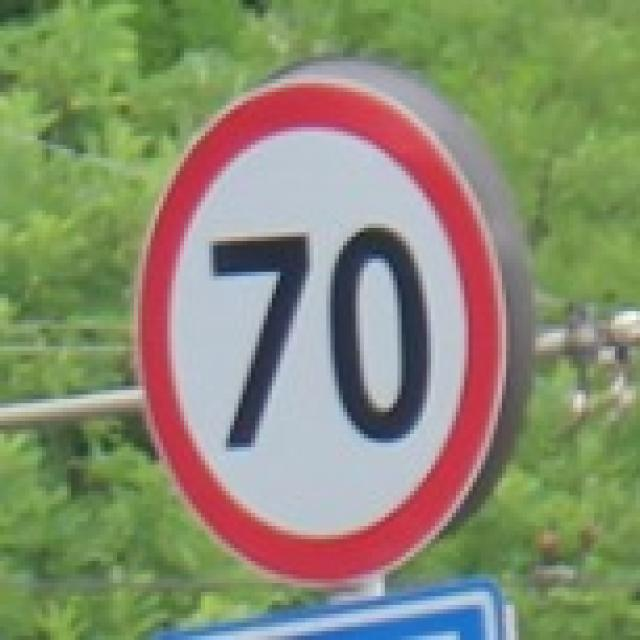Speed Limit -70-: (208, 220, 432, 454)
